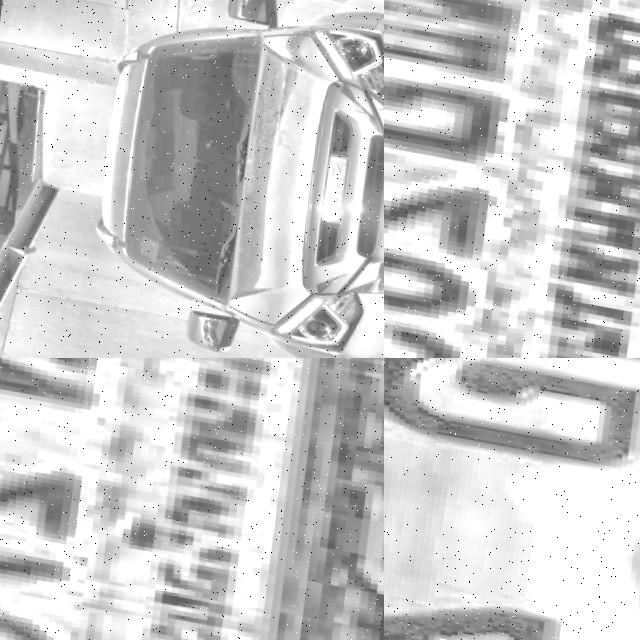license-plate: (0, 358, 361, 640), (384, 0, 640, 358), (384, 358, 640, 640)
